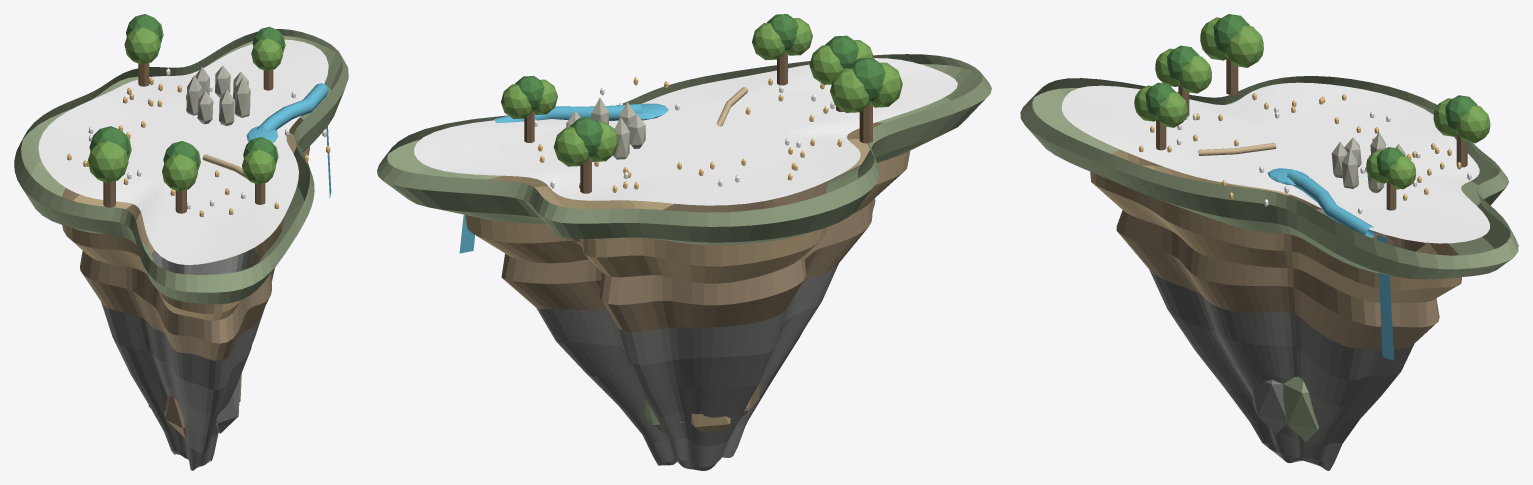
The model's file is FI-003-Fernstep-Vale.glb.
3 views of the same model, side by side, from view 1: azimuth 30°, elevation 25°; view 2: azimuth 150°, elevation 25°; view 3: azimuth 270°, elevation 25° (orthographic). The views are drawn at different scales.
Parts seen in each view (by area): view 1: FI-003_StratifiedFloatingCliff, FI-003_BuildableTop, OrchardTree_00_Canopy_00, MeadowCreek, OrchardTree_01_Canopy_00, OrchardTree_03_Canopy_00, OrchardTree_02_Canopy_00, OrchardTree_04_Canopy_00, OrchardTree_00_Canopy_01, FI-003_RootShoulder_03, StandingStone_05, FI-003_RootShoulder_02 (+8 smaller); view 2: FI-003_StratifiedFloatingCliff, FI-003_BuildableTop, OrchardTree_00_Canopy_02, MeadowCreek, OrchardTree_03_Canopy_02, OrchardTree_00_Canopy_01, OrchardTree_01_Canopy_02, OrchardTree_02_Canopy_02, OrchardTree_00_Canopy_00, OrchardTree_04_Canopy_02, OrchardTree_03_Canopy_01, OrchardTree_01_Canopy_01 (+2 smaller); view 3: FI-003_StratifiedFloatingCliff, FI-003_BuildableTop, FI-003_RootShoulder_04, MeadowCreek, FI-003_RootShoulder_03, OrchardTree_00_Canopy_02, WaterfallSheet, OrchardTree_03_Canopy_02, OrchardTree_01_Canopy_02, OrchardTree_02_Canopy_02, OrchardTree_00_Canopy_01, OrchardTree_04_Canopy_02 (+6 smaller).
Part boxes in pixels (<box>): FI-003_StratifiedFloatingCliff: <box>14,29,348,470</box>; FI-003_BuildableTop: <box>38,39,328,264</box>; OrchardTree_00_Canopy_00: <box>88,141,128,183</box>; MeadowCreek: <box>256,83,328,132</box>; OrchardTree_01_Canopy_00: <box>162,154,197,191</box>; OrchardTree_03_Canopy_00: <box>124,27,160,64</box>; OrchardTree_02_Canopy_00: <box>242,149,275,184</box>; OrchardTree_04_Canopy_00: <box>251,38,282,71</box>; OrchardTree_00_Canopy_01: <box>89,126,129,156</box>; FI-003_RootShoulder_03: <box>215,377,240,433</box>; StandingStone_05: <box>234,77,250,117</box>; FI-003_RootShoulder_02: <box>165,395,185,438</box>; FI-003_StratifiedFloatingCliff: <box>377,54,991,470</box>; FI-003_BuildableTop: <box>414,58,957,205</box>; OrchardTree_00_Canopy_02: <box>830,68,870,112</box>; MeadowCreek: <box>493,104,641,123</box>; OrchardTree_03_Canopy_02: <box>553,127,590,166</box>; OrchardTree_00_Canopy_01: <box>848,58,885,101</box>; OrchardTree_01_Canopy_02: <box>809,45,843,84</box>; OrchardTree_02_Canopy_02: <box>752,23,785,60</box>; OrchardTree_00_Canopy_00: <box>870,62,902,107</box>; OrchardTree_04_Canopy_02: <box>501,84,532,118</box>; OrchardTree_03_Canopy_01: <box>569,117,603,156</box>; OrchardTree_01_Canopy_01: <box>825,35,859,68</box>; FI-003_StratifiedFloatingCliff: <box>1020,76,1518,470</box>; FI-003_BuildableTop: <box>1061,82,1489,243</box>; FI-003_RootShoulder_04: <box>1283,376,1318,441</box>; MeadowCreek: <box>1287,170,1375,237</box>; FI-003_RootShoulder_03: <box>1252,379,1287,433</box>; OrchardTree_00_Canopy_02: <box>1225,26,1263,67</box>; WaterfallSheet: <box>1377,235,1394,360</box>; OrchardTree_03_Canopy_02: <box>1456,106,1490,143</box>; OrchardTree_01_Canopy_02: <box>1178,56,1211,93</box>; OrchardTree_02_Canopy_02: <box>1156,92,1187,127</box>; OrchardTree_00_Canopy_01: <box>1213,14,1249,55</box>; OrchardTree_04_Canopy_02: <box>1386,156,1416,189</box>.
Size of the model in its own units: 12.55 by 12.25 by 14.4.
